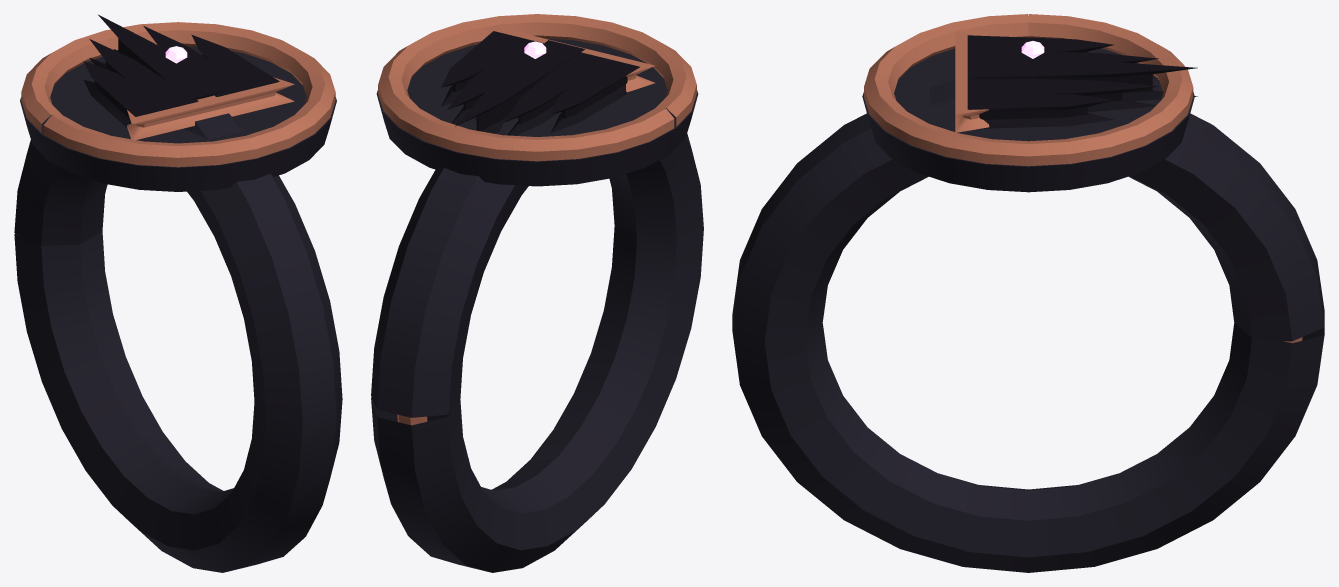
File: boss_obsidian_oath_accessory_2.glb
3 views of the same model, side by side, from view 1: azimuth 30°, elevation 25°; view 2: azimuth 150°, elevation 25°; view 3: azimuth 270°, elevation 25° (orthographic). The views are drawn at different scales.
Visible parts, largest first — view 1: boss_obsidian_oath_accessory_2; view 2: boss_obsidian_oath_accessory_2; view 3: boss_obsidian_oath_accessory_2.
Boxes of the visible parts, x1=… form: boss_obsidian_oath_accessory_2: x1=14, y1=14, x2=342, y2=572; boss_obsidian_oath_accessory_2: x1=371, y1=14, x2=703, y2=572; boss_obsidian_oath_accessory_2: x1=732, y1=14, x2=1324, y2=572.
Size of the model in its own units: 0.084 by 0.1454 by 0.1496.
